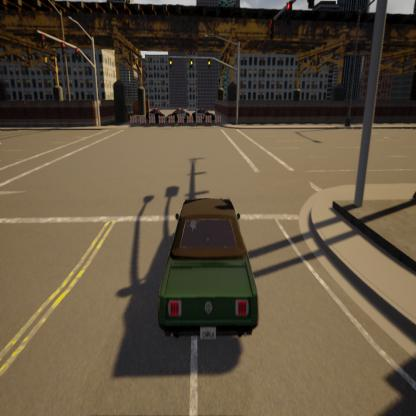Cars: (128, 177, 267, 356), (192, 106, 217, 126), (168, 106, 191, 125), (146, 105, 166, 124)
